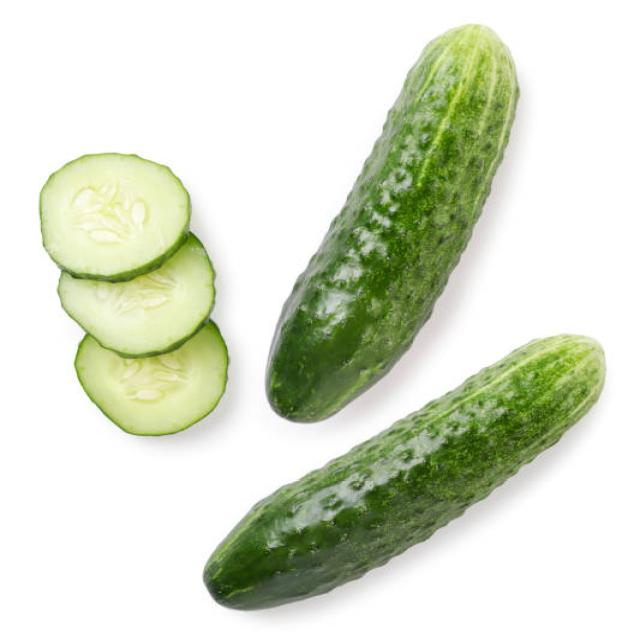cucumber: (204, 330, 610, 609), (263, 24, 521, 425)
